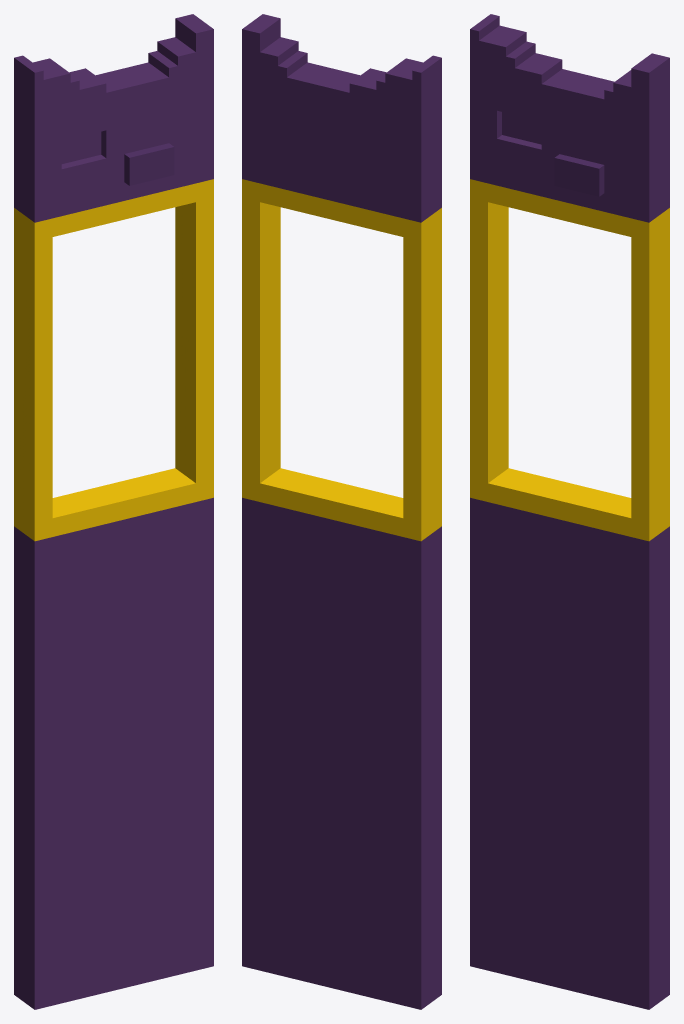
File: door2.obj
3 views of the same model, side by side, from view 1: azimuth 30°, elevation 25°; view 2: azimuth 150°, elevation 25°; view 3: azimuth 330°, elevation 25° (orthographic).
Size of the model in its own units: 2 by 10 by 0.5.
1 material, 1 textured.
